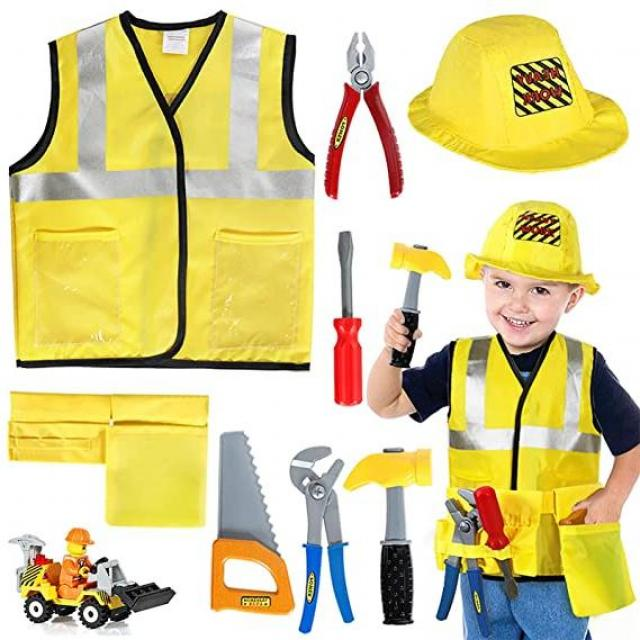Reflective-Jacket: (3, 6, 330, 377), (440, 330, 625, 586)
Safety-Helmet: (406, 8, 628, 176), (461, 194, 602, 290), (62, 523, 95, 553)
